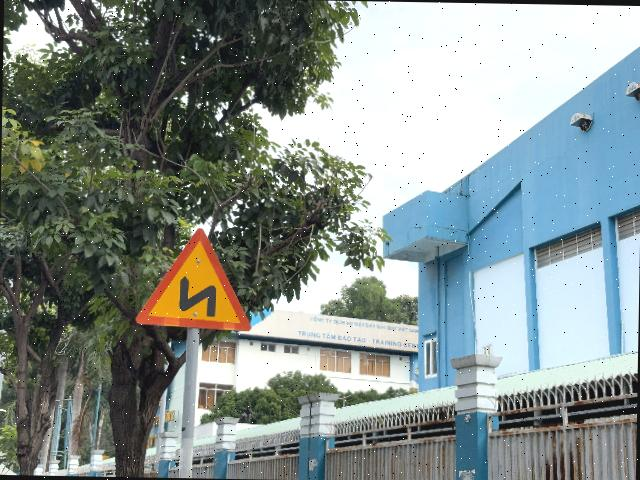nhieu-cho-ngoat-nguy-hiem-lien-tiep: (136, 226, 254, 332)
